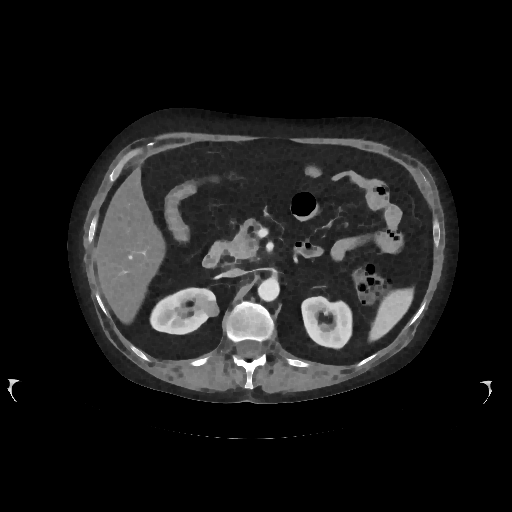Lesion: (200, 300, 221, 322)
